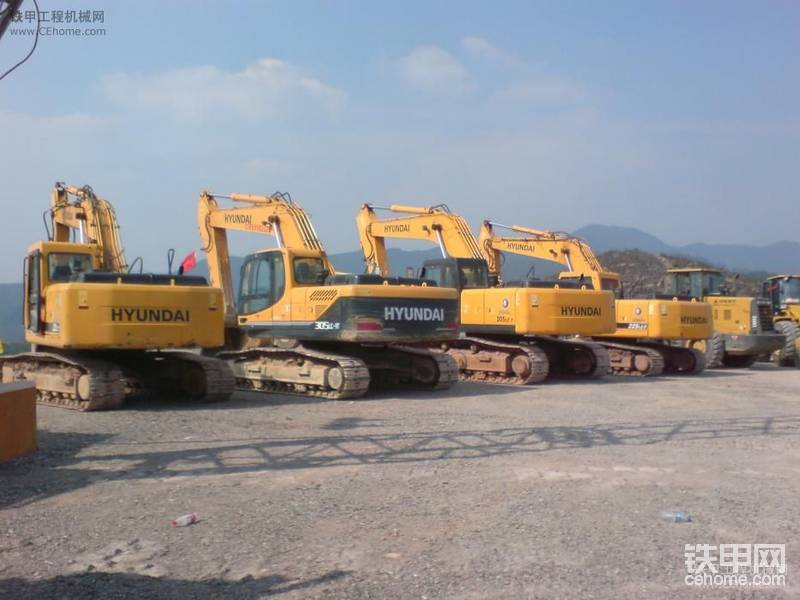excavator: (178, 181, 469, 407), (345, 202, 625, 398), (21, 170, 220, 423), (468, 216, 728, 377)
